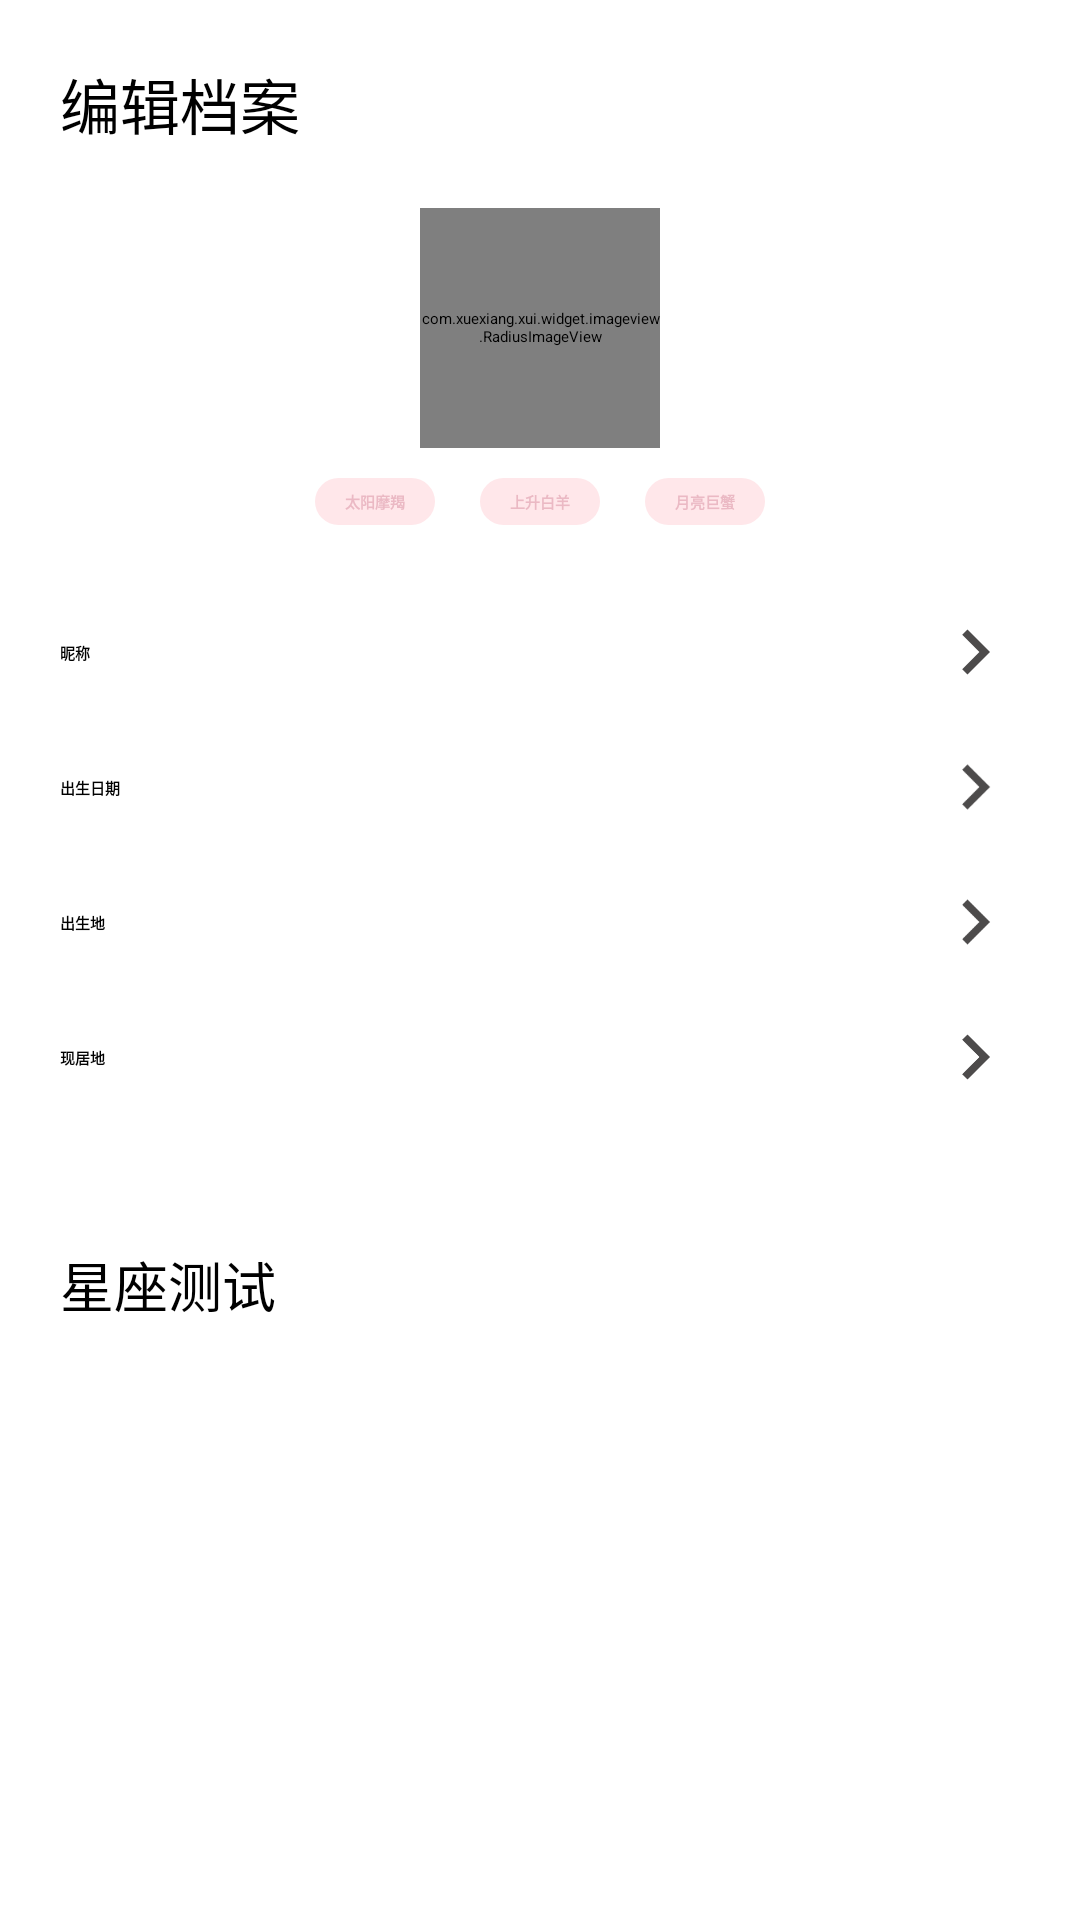

Icons on this 1080px x 1920px Android screen, each with the point to tap as (x,y):
navigate next: (976,652), (976,787), (976,922), (976,1057)
